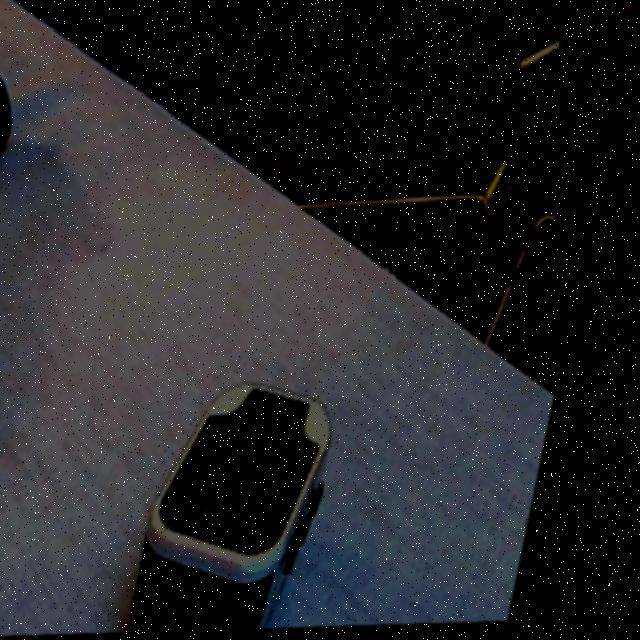adapter: (149, 378, 364, 634)
